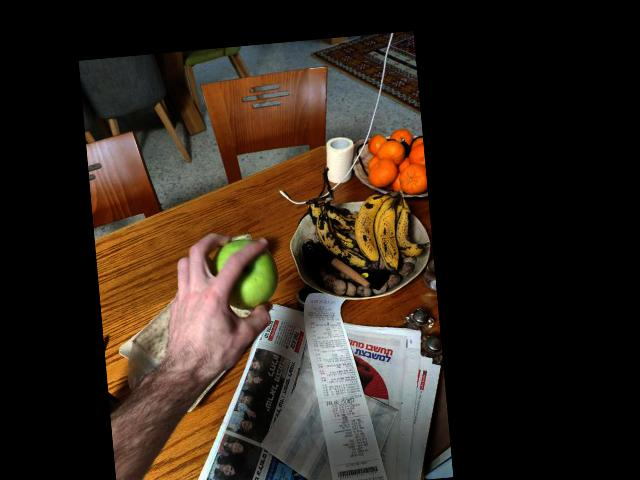apple: (208, 232, 279, 314)
